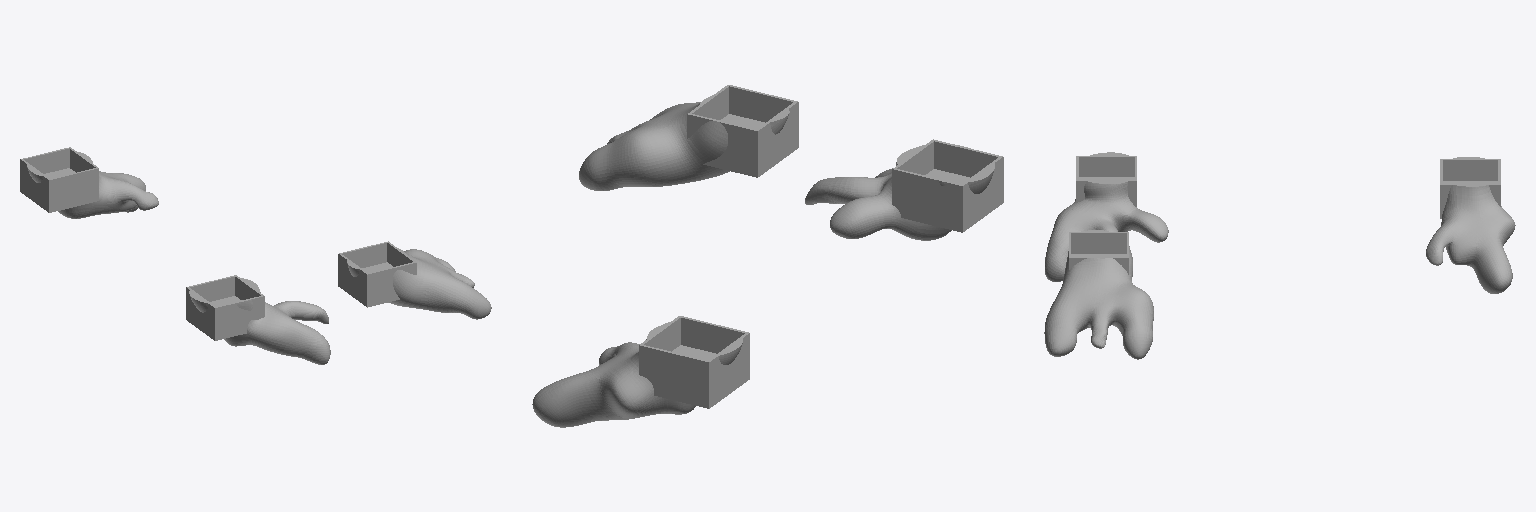
The robot description file, URDF, robot "FrogBot4_top-FrogBot4-x-0_bottom-FrogBot4-x-0":
<?xml version="1.0" ?>
<robot name="FrogBot4_top-FrogBot4-x-0_bottom-FrogBot4-x-0">

<material name="pla_5_percent_infill">
  <color rgba="0.700 0.700 0.700 1.000"/>
</material>

<link name="base_link">
  <inertial>
    <origin xyz="0 0 0" rpy="0 0 0"/>
    <mass value="1.4404230783630443"/>
    <inertia ixx="0.004945538832867635" iyy="0.010223772556271871" izz="0.010419835212031815" ixy="4.49475023064315e-05" iyz="5.7577105870827345e-05" ixz="-0.0011907218146643196"/>
  </inertial>
  <visual>
    <origin xyz="0 0 0" rpy="0 0 0"/>
    <geometry>
      <mesh filename="simple_meshes/base_link.stl" scale="0.001 0.001 0.001"/>
    </geometry>
    <material name="pla_5_percent_infill"/>
  </visual>
  <collision>
    <origin xyz="0 0 0" rpy="0 0 0"/>
    <geometry>
      <mesh filename="simple_meshes/base_link.stl" scale="0.001 0.001 0.001"/>
    </geometry>
  </collision>
</link>

<link name="body_1_0_1">
  <inertial>
    <origin xyz="-0.039935 -0.102508 -0.020563" rpy="0 0 0"/>
    <mass value="0.05644473051961129"/>
    <inertia ixx="4.684416316049476e-05" iyy="5.7944185567685444e-05" izz="2.6258121490158135e-05" ixy="7.418689432877787e-07" iyz="1.3765996372861768e-06" ixz="-9.387158536809664e-06"/>
  </inertial>
  <visual>
    <origin xyz="-0.039935 -0.102508 -0.020563" rpy="0 0 0"/>
    <geometry>
      <mesh filename="simple_meshes/body_1_0_1.stl" scale="0.001 0.001 0.001"/>
    </geometry>
    <material name="pla_5_percent_infill"/>
  </visual>
  <collision>
    <origin xyz="-0.039935 -0.102508 -0.020563" rpy="0 0 0"/>
    <geometry>
      <mesh filename="simple_meshes/body_1_0_1.stl" scale="0.001 0.001 0.001"/>
    </geometry>
  </collision>
</link>

<link name="body_1_1_1">
  <inertial>
    <origin xyz="0.084829 -0.102508 0.010182" rpy="0 0 0"/>
    <mass value="0.05866874349355238"/>
    <inertia ixx="3.456584059663144e-05" iyy="7.061682621386481e-05" izz="5.1808974926892664e-05" ixy="5.794329424636813e-07" iyz="2.3950668456214385e-06" ixz="-1.9511668575027504e-05"/>
  </inertial>
  <visual>
    <origin xyz="0.084829 -0.102508 0.010182" rpy="0 0 0"/>
    <geometry>
      <mesh filename="simple_meshes/body_1_1_1.stl" scale="0.001 0.001 0.001"/>
    </geometry>
    <material name="pla_5_percent_infill"/>
  </visual>
  <collision>
    <origin xyz="0.084829 -0.102508 0.010182" rpy="0 0 0"/>
    <geometry>
      <mesh filename="simple_meshes/body_1_1_1.stl" scale="0.001 0.001 0.001"/>
    </geometry>
  </collision>
</link>

<link name="body_1_2_1">
  <inertial>
    <origin xyz="-0.032973 0.102508 -0.03352" rpy="0 0 0"/>
    <mass value="0.06510318088416493"/>
    <inertia ixx="6.52420240064833e-05" iyy="7.634581463080676e-05" izz="3.0098816683163474e-05" ixy="-1.9712231287839213e-06" iyz="-7.296632937092121e-06" ixz="-8.488237379968693e-06"/>
  </inertial>
  <visual>
    <origin xyz="-0.032973 0.102508 -0.03352" rpy="0 0 0"/>
    <geometry>
      <mesh filename="simple_meshes/body_1_2_1.stl" scale="0.001 0.001 0.001"/>
    </geometry>
    <material name="pla_5_percent_infill"/>
  </visual>
  <collision>
    <origin xyz="-0.032973 0.102508 -0.03352" rpy="0 0 0"/>
    <geometry>
      <mesh filename="simple_meshes/body_1_2_1.stl" scale="0.001 0.001 0.001"/>
    </geometry>
  </collision>
</link>

<link name="body_1_3_1">
  <inertial>
    <origin xyz="0.075405 0.102508 -0.000907" rpy="0 0 0"/>
    <mass value="0.06390123816362833"/>
    <inertia ixx="3.6378971107028446e-05" iyy="6.945762614881843e-05" izz="5.0219988135300365e-05" ixy="3.9854540213142206e-07" iyz="-1.0134585082600446e-06" ixz="-1.6743103384444152e-05"/>
  </inertial>
  <visual>
    <origin xyz="0.075405 0.102508 -0.000907" rpy="0 0 0"/>
    <geometry>
      <mesh filename="simple_meshes/body_1_3_1.stl" scale="0.001 0.001 0.001"/>
    </geometry>
    <material name="pla_5_percent_infill"/>
  </visual>
  <collision>
    <origin xyz="0.075405 0.102508 -0.000907" rpy="0 0 0"/>
    <geometry>
      <mesh filename="simple_meshes/body_1_3_1.stl" scale="0.001 0.001 0.001"/>
    </geometry>
  </collision>
</link>

<link name="body_2_0_1">
  <inertial>
    <origin xyz="-0.025656 -0.144015 0.085436" rpy="0 0 0"/>
    <mass value="0.05901623807117912"/>
    <inertia ixx="3.3418265886834154e-05" iyy="5.3037407184734634e-05" izz="7.070970764053554e-05" ixy="-6.079776509312559e-07" iyz="2.0423531041802861e-07" ixz="1.1026023336998267e-05"/>
  </inertial>
  <visual>
    <origin xyz="-0.025656 -0.144015 0.085436" rpy="0 0 0"/>
    <geometry>
      <mesh filename="simple_meshes/body_2_0_1.stl" scale="0.001 0.001 0.001"/>
    </geometry>
    <material name="pla_5_percent_infill"/>
  </visual>
  <collision>
    <origin xyz="-0.025656 -0.144015 0.085436" rpy="0 0 0"/>
    <geometry>
      <mesh filename="simple_meshes/body_2_0_1.stl" scale="0.001 0.001 0.001"/>
    </geometry>
  </collision>
</link>

<link name="body_2_1_1">
  <inertial>
    <origin xyz="0.114857 -0.144661 0.085438" rpy="0 0 0"/>
    <mass value="0.05214444072523382"/>
    <inertia ixx="2.0713242475516556e-05" iyy="4.918473343678404e-05" izz="5.20696931413584e-05" ixy="-4.676671227275917e-06" iyz="2.5320706105377844e-06" ixz="1.2128576578248934e-05"/>
  </inertial>
  <visual>
    <origin xyz="0.114857 -0.144661 0.085438" rpy="0 0 0"/>
    <geometry>
      <mesh filename="simple_meshes/body_2_1_1.stl" scale="0.001 0.001 0.001"/>
    </geometry>
    <material name="pla_5_percent_infill"/>
  </visual>
  <collision>
    <origin xyz="0.114857 -0.144661 0.085438" rpy="0 0 0"/>
    <geometry>
      <mesh filename="simple_meshes/body_2_1_1.stl" scale="0.001 0.001 0.001"/>
    </geometry>
  </collision>
</link>

<link name="body_2_2_1">
  <inertial>
    <origin xyz="-0.022601 0.151053 0.085436" rpy="0 0 0"/>
    <mass value="0.06579174941413166"/>
    <inertia ixx="3.708049132541361e-05" iyy="5.594619100016823e-05" izz="7.565475675376065e-05" ixy="-1.778117298007701e-06" iyz="1.2074767627543066e-07" ixz="1.1426548627927954e-05"/>
  </inertial>
  <visual>
    <origin xyz="-0.022601 0.151053 0.085436" rpy="0 0 0"/>
    <geometry>
      <mesh filename="simple_meshes/body_2_2_1.stl" scale="0.001 0.001 0.001"/>
    </geometry>
    <material name="pla_5_percent_infill"/>
  </visual>
  <collision>
    <origin xyz="-0.022601 0.151053 0.085436" rpy="0 0 0"/>
    <geometry>
      <mesh filename="simple_meshes/body_2_2_1.stl" scale="0.001 0.001 0.001"/>
    </geometry>
  </collision>
</link>

<link name="body_2_3_1">
  <inertial>
    <origin xyz="0.12145 0.145005 0.085436" rpy="0 0 0"/>
    <mass value="0.050170772342224855"/>
    <inertia ixx="2.834998469737138e-05" iyy="3.9199315970304786e-05" izz="5.3300951524384724e-05" ixy="7.1835561381304635e-06" iyz="-4.629462499843463e-06" ixz="7.928263393941243e-06"/>
  </inertial>
  <visual>
    <origin xyz="0.12145 0.145005 0.085436" rpy="0 0 0"/>
    <geometry>
      <mesh filename="simple_meshes/body_2_3_1.stl" scale="0.001 0.001 0.001"/>
    </geometry>
    <material name="pla_5_percent_infill"/>
  </visual>
  <collision>
    <origin xyz="0.12145 0.145005 0.085436" rpy="0 0 0"/>
    <geometry>
      <mesh filename="simple_meshes/body_2_3_1.stl" scale="0.001 0.001 0.001"/>
    </geometry>
  </collision>
</link>

<joint name="joint_1_0" type="revolute">
  <origin xyz="0.039935 0.102508 0.020563" rpy="0 0 0"/>
  <parent link="base_link"/>
  <child link="body_1_0_1"/>
  <axis xyz="1.0 0.0 0.0"/>
  <limit upper="1.2" lower="-1.2" effort="3.8" velocity="5.4"/>
</joint>
<transmission name="joint_1_0_tran">
  <type>transmission_interface/SimpleTransmission</type>
  <joint name="joint_1_0">
    <hardwareInterface>PositionJointInterface</hardwareInterface>
  </joint>
  <actuator name="joint_1_0_actr">
    <hardwareInterface>PositionJointInterface</hardwareInterface>
    <mechanicalReduction>1</mechanicalReduction>
  </actuator>
</transmission>

<joint name="joint_1_1" type="revolute">
  <origin xyz="-0.084829 0.102508 -0.010182" rpy="0 0 0"/>
  <parent link="base_link"/>
  <child link="body_1_1_1"/>
  <axis xyz="1.0 0.0 0.0"/>
  <limit upper="1.2" lower="-1.2" effort="3.8" velocity="5.4"/>
</joint>
<transmission name="joint_1_1_tran">
  <type>transmission_interface/SimpleTransmission</type>
  <joint name="joint_1_1">
    <hardwareInterface>PositionJointInterface</hardwareInterface>
  </joint>
  <actuator name="joint_1_1_actr">
    <hardwareInterface>PositionJointInterface</hardwareInterface>
    <mechanicalReduction>1</mechanicalReduction>
  </actuator>
</transmission>

<joint name="joint_1_2" type="revolute">
  <origin xyz="0.032973 -0.102508 0.03352" rpy="0 0 0"/>
  <parent link="base_link"/>
  <child link="body_1_2_1"/>
  <axis xyz="1.0 0.0 0.0"/>
  <limit upper="1.2" lower="-1.2" effort="3.8" velocity="5.4"/>
</joint>
<transmission name="joint_1_2_tran">
  <type>transmission_interface/SimpleTransmission</type>
  <joint name="joint_1_2">
    <hardwareInterface>PositionJointInterface</hardwareInterface>
  </joint>
  <actuator name="joint_1_2_actr">
    <hardwareInterface>PositionJointInterface</hardwareInterface>
    <mechanicalReduction>1</mechanicalReduction>
  </actuator>
</transmission>

<joint name="joint_1_3" type="revolute">
  <origin xyz="-0.075405 -0.102508 0.000907" rpy="0 0 0"/>
  <parent link="base_link"/>
  <child link="body_1_3_1"/>
  <axis xyz="1.0 0.0 0.0"/>
  <limit upper="1.2" lower="-1.2" effort="3.8" velocity="5.4"/>
</joint>
<transmission name="joint_1_3_tran">
  <type>transmission_interface/SimpleTransmission</type>
  <joint name="joint_1_3">
    <hardwareInterface>PositionJointInterface</hardwareInterface>
  </joint>
  <actuator name="joint_1_3_actr">
    <hardwareInterface>PositionJointInterface</hardwareInterface>
    <mechanicalReduction>1</mechanicalReduction>
  </actuator>
</transmission>

<joint name="joint_2_0" type="revolute">
  <origin xyz="-0.014279 0.041507 -0.105999" rpy="0 0 0"/>
  <parent link="body_1_0_1"/>
  <child link="body_2_0_1"/>
  <axis xyz="1.0 0.0 0.0"/>
  <limit upper="1.2" lower="-1.2" effort="3.8" velocity="5.4"/>
</joint>
<transmission name="joint_2_0_tran">
  <type>transmission_interface/SimpleTransmission</type>
  <joint name="joint_2_0">
    <hardwareInterface>PositionJointInterface</hardwareInterface>
  </joint>
  <actuator name="joint_2_0_actr">
    <hardwareInterface>PositionJointInterface</hardwareInterface>
    <mechanicalReduction>1</mechanicalReduction>
  </actuator>
</transmission>

<joint name="joint_2_1" type="revolute">
  <origin xyz="-0.030028 0.042153 -0.075256" rpy="0 0 0"/>
  <parent link="body_1_1_1"/>
  <child link="body_2_1_1"/>
  <axis xyz="1.0 0.0 0.0"/>
  <limit upper="1.2" lower="-1.2" effort="3.8" velocity="5.4"/>
</joint>
<transmission name="joint_2_1_tran">
  <type>transmission_interface/SimpleTransmission</type>
  <joint name="joint_2_1">
    <hardwareInterface>PositionJointInterface</hardwareInterface>
  </joint>
  <actuator name="joint_2_1_actr">
    <hardwareInterface>PositionJointInterface</hardwareInterface>
    <mechanicalReduction>1</mechanicalReduction>
  </actuator>
</transmission>

<joint name="joint_2_2" type="revolute">
  <origin xyz="-0.010372 -0.048545 -0.118956" rpy="0 0 0"/>
  <parent link="body_1_2_1"/>
  <child link="body_2_2_1"/>
  <axis xyz="1.0 0.0 0.0"/>
  <limit upper="1.2" lower="-1.2" effort="3.8" velocity="5.4"/>
</joint>
<transmission name="joint_2_2_tran">
  <type>transmission_interface/SimpleTransmission</type>
  <joint name="joint_2_2">
    <hardwareInterface>PositionJointInterface</hardwareInterface>
  </joint>
  <actuator name="joint_2_2_actr">
    <hardwareInterface>PositionJointInterface</hardwareInterface>
    <mechanicalReduction>1</mechanicalReduction>
  </actuator>
</transmission>

<joint name="joint_2_3" type="revolute">
  <origin xyz="-0.046045 -0.042497 -0.086343" rpy="0 0 0"/>
  <parent link="body_1_3_1"/>
  <child link="body_2_3_1"/>
  <axis xyz="1.0 0.0 0.0"/>
  <limit upper="1.2" lower="-1.2" effort="3.8" velocity="5.4"/>
</joint>
<transmission name="joint_2_3_tran">
  <type>transmission_interface/SimpleTransmission</type>
  <joint name="joint_2_3">
    <hardwareInterface>PositionJointInterface</hardwareInterface>
  </joint>
  <actuator name="joint_2_3_actr">
    <hardwareInterface>PositionJointInterface</hardwareInterface>
    <mechanicalReduction>1</mechanicalReduction>
  </actuator>
</transmission>

</robot>

--- Facts derived from the render (not from the file) ---
The picture shows the robot from 3 angles, left to right: view 1: azimuth 30°, elevation 25°; view 2: azimuth 150°, elevation 25°; view 3: azimuth 270°, elevation 25°; orthographic projection.
Model FrogBot4_top-FrogBot4-x-0_bottom-FrogBot4-x-0 with 9 links and 8 joints (8 revolute), rooted at base_link, posed every joint at zero.
Visible links, largest first — view 1: body_2_3_1, body_2_2_1, body_2_1_1; view 2: body_2_2_1, body_2_1_1, body_2_3_1; view 3: body_2_2_1, body_2_1_1, body_2_3_1.
Boxes of the visible links, left/top/right/bottom form: body_2_3_1: left=186, top=275, right=330, bottom=364; body_2_2_1: left=338, top=241, right=491, bottom=319; body_2_1_1: left=20, top=147, right=158, bottom=218; body_2_2_1: left=579, top=85, right=798, bottom=190; body_2_1_1: left=532, top=316, right=749, bottom=427; body_2_3_1: left=805, top=139, right=1003, bottom=240; body_2_2_1: left=1044, top=230, right=1153, bottom=359; body_2_1_1: left=1426, top=157, right=1515, bottom=293; body_2_3_1: left=1045, top=152, right=1168, bottom=281.
Size in the robot's own frame: 0.2681 by 0.375 by 0.0688 metres.
3 mesh visuals loaded from 9 distinct referenced files (3 binary STL); not drawn: 6 (reference not matched to a file when rendering).